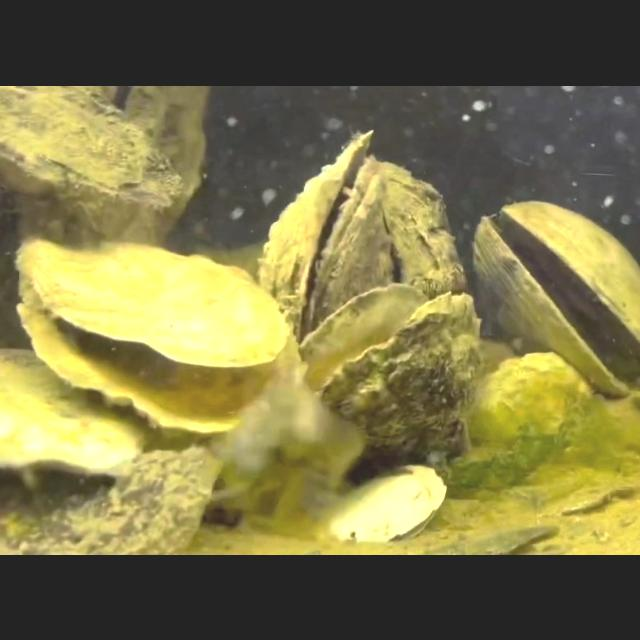Oyster-Closed: (0, 444, 226, 554), (0, 85, 184, 206), (434, 352, 592, 488), (0, 344, 146, 476), (376, 159, 466, 299)
Oyster-Open: (14, 235, 296, 429), (292, 282, 482, 462), (470, 201, 640, 397), (256, 127, 394, 337), (55, 85, 208, 251), (330, 464, 446, 544)
